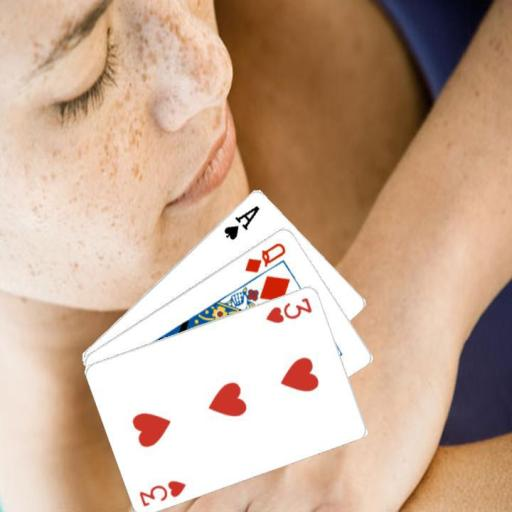3H: (136, 476, 188, 508), (263, 294, 315, 324)
AS: (220, 202, 261, 241)
QD: (241, 239, 287, 274)
